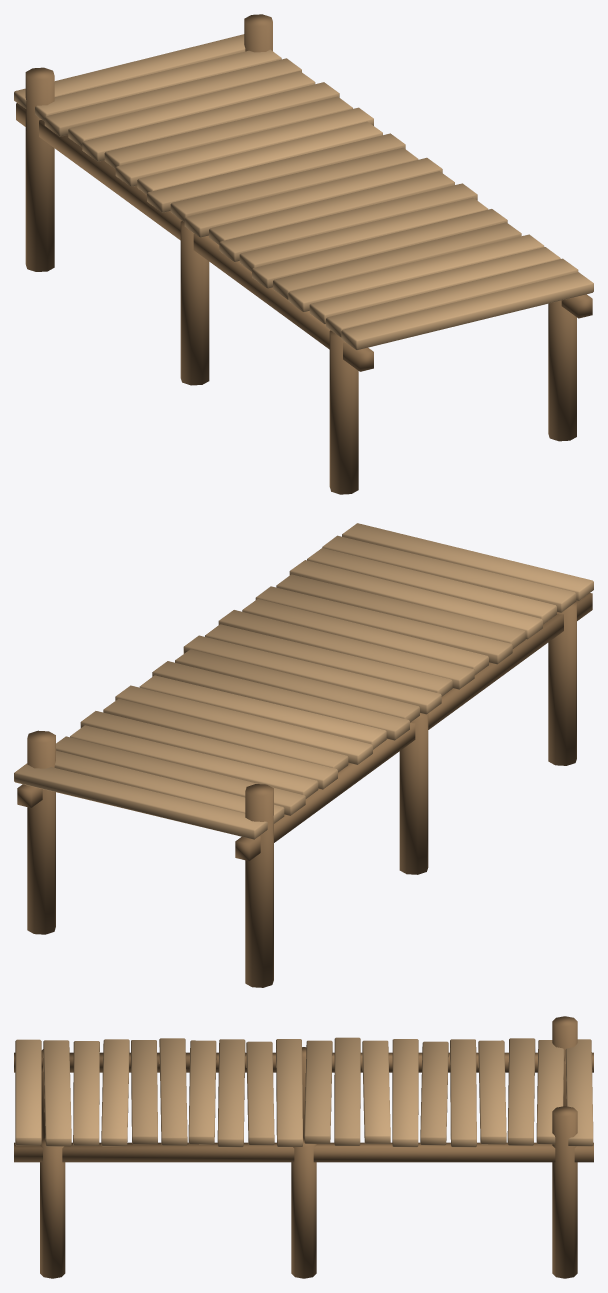
Rendered from pier_small.glb.
3 views of the same model, one above another, from view 1: azimuth 30°, elevation 25°; view 2: azimuth 150°, elevation 25°; view 3: azimuth 270°, elevation 25° (orthographic). The views are drawn at different scales.
Visible parts, largest first — view 1: Pier_Small_Deck, Pier_Small_Piles; view 2: Pier_Small_Deck, Pier_Small_Piles; view 3: Pier_Small_Deck, Pier_Small_Piles.
Boxes of the visible parts, x1,y1,x2,y2 form: Pier_Small_Deck: [14, 34, 593, 350]; Pier_Small_Piles: [16, 14, 592, 494]; Pier_Small_Deck: [14, 523, 593, 839]; Pier_Small_Piles: [17, 593, 592, 987]; Pier_Small_Deck: [15, 1037, 593, 1147]; Pier_Small_Piles: [14, 1016, 593, 1278].
Size of the model in its own units: 2.49 by 1.85 by 6.
